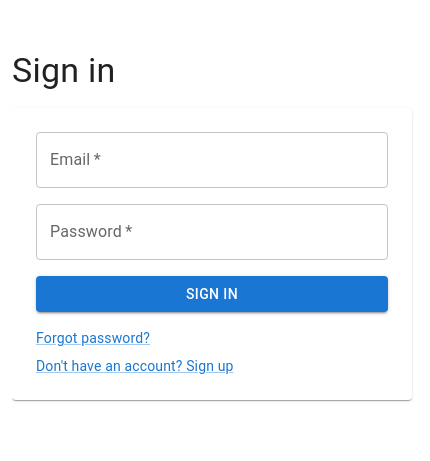
Test case: LoginPage › shows generic error when signIn fails and not network error
This screenshot has width=430, height=461.
Type "user@example.com" into the field labelled "Email *" at {"x": 212, "y": 160}, box [36,132,388,188]
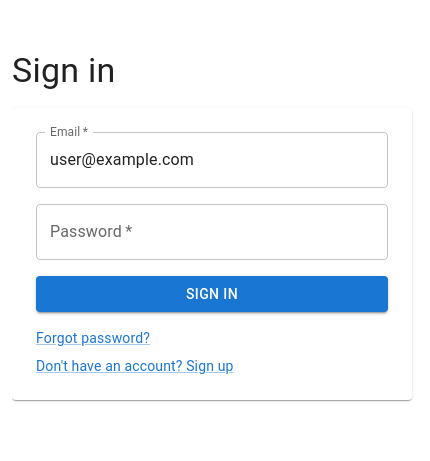
Type "password1" into the password field labelled "Password *" at {"x": 212, "y": 232}, box [36,204,388,260]
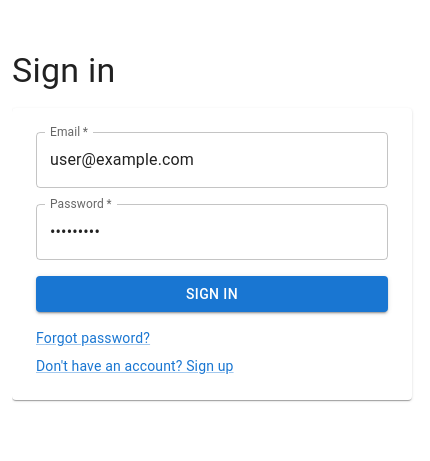
Submit the form from the button "Sign in", box [36,276,388,312]
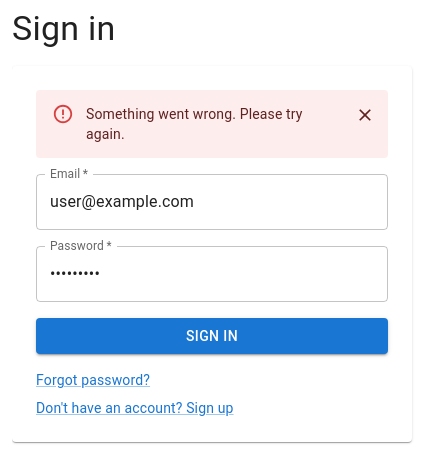
Check: the text "Something went wrong. Please try again." is shown, box [86,96,334,152]
